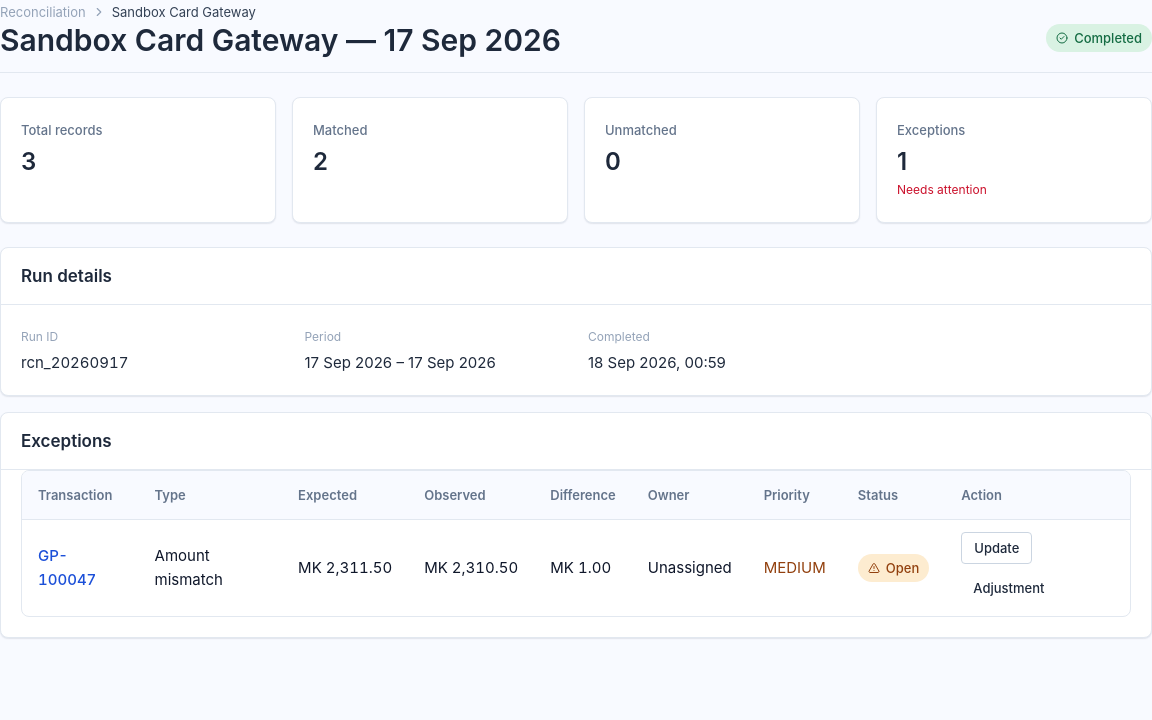
ReconciliationRunDetail › lets a permitted user update an exception, and the change comes from a real backend round-trip
This screenshot has width=1152, height=720.
Click the button "Update": (997, 548) [961,532,1032,564]
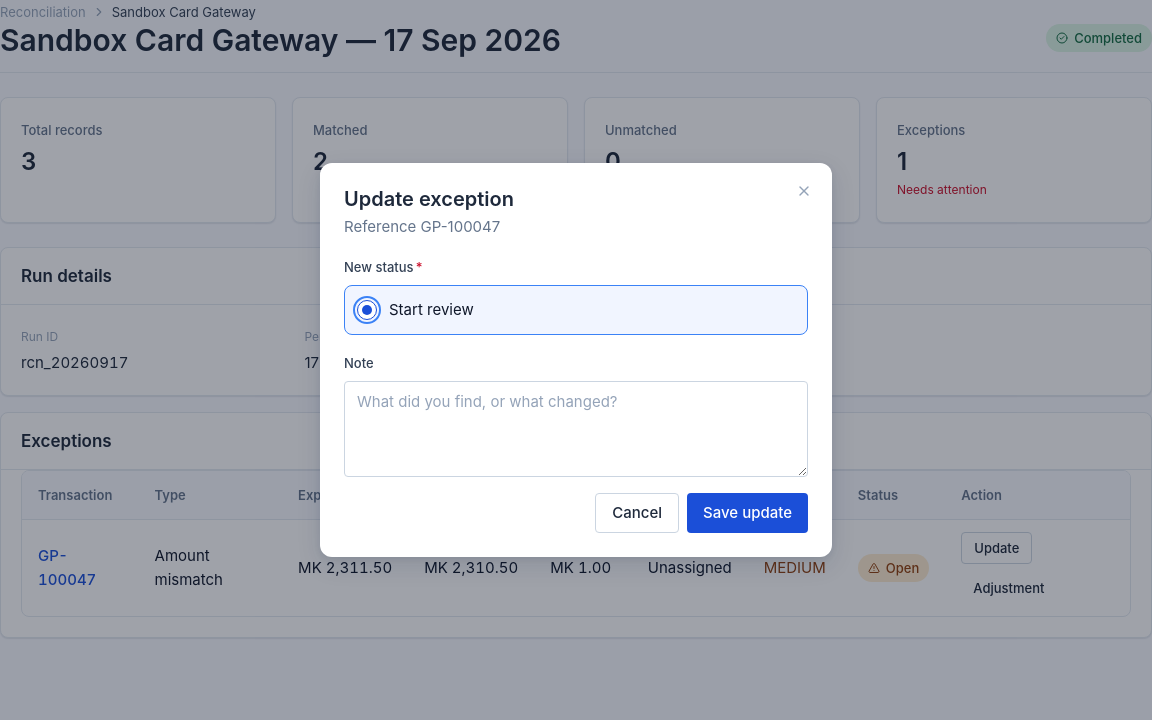
Expected: the heading "Update exception" is shown, [344,187,514,211]
In the text box with placeholder "What did you find, or what changed?": (576, 429) [344,381,808,477], type "Confirmed with provider support."
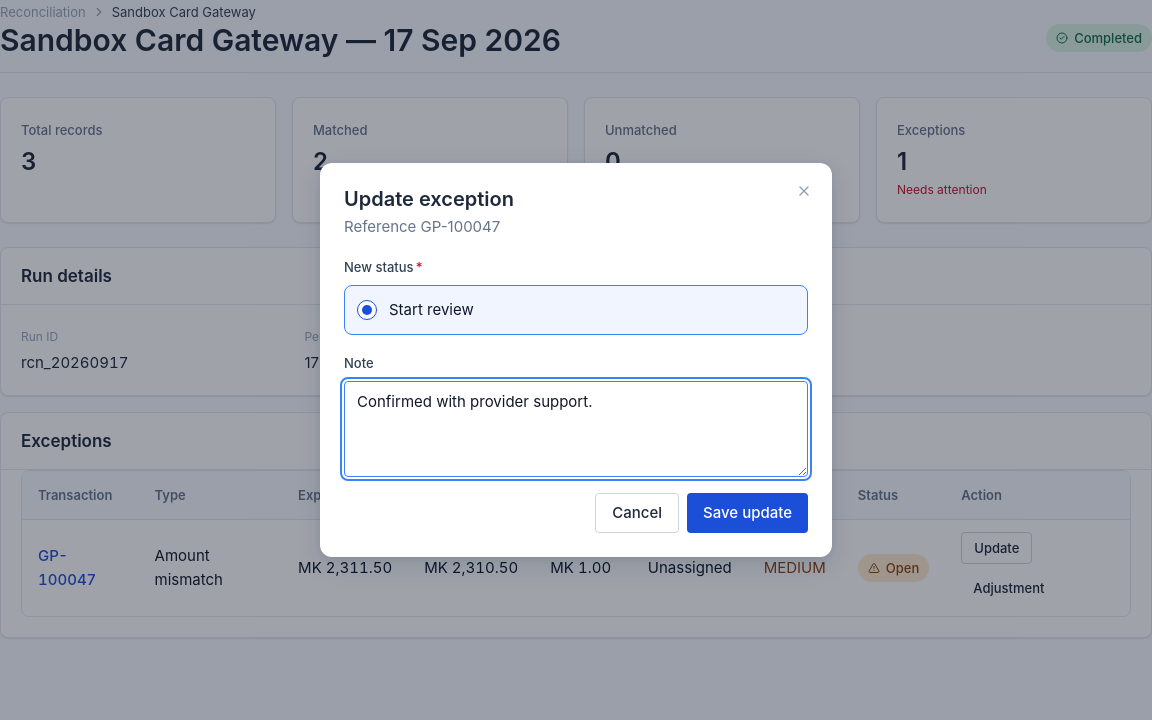
Click the button "Save update": (748, 513) [687,493,808,533]
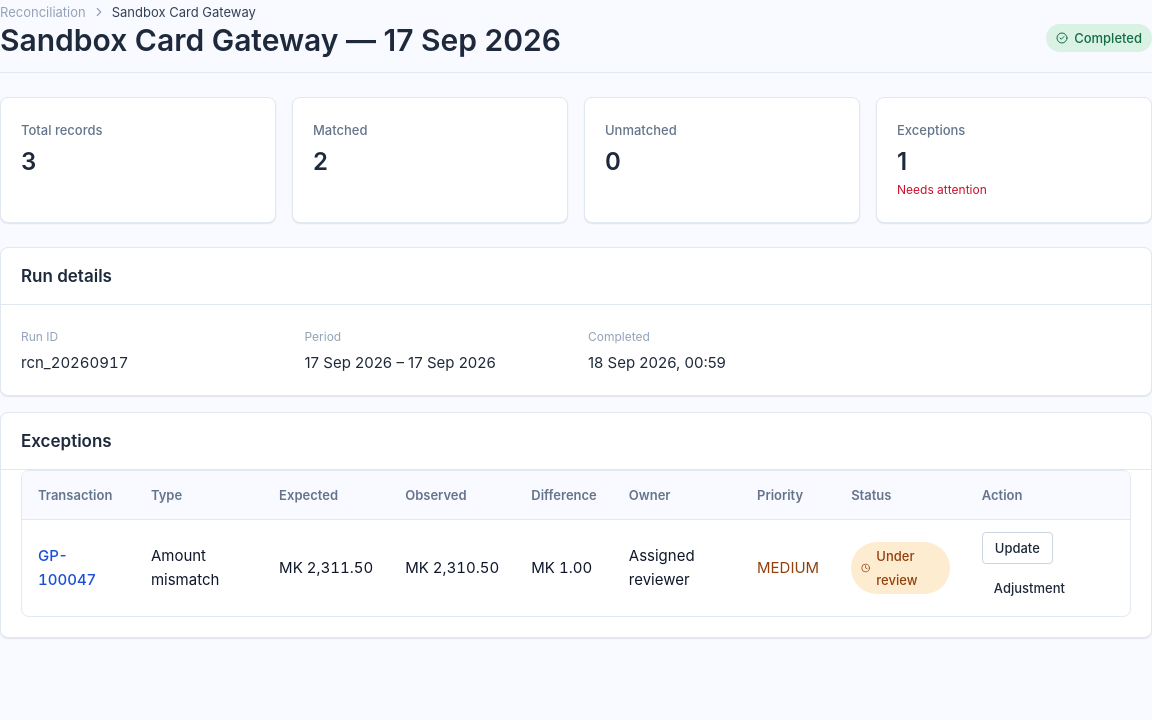
Expected: the heading "Update exception" is gone
Expected: the text "Under review" is shown, [851,542,950,594]
